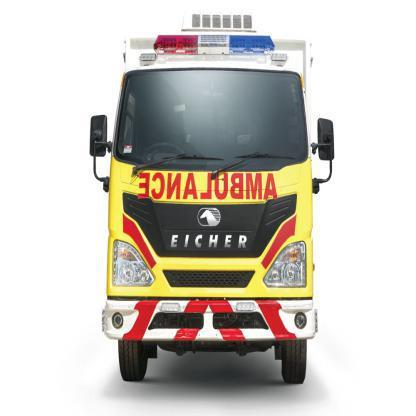Ambulance - v1 Ambulance last generate: (91, 12, 335, 392)
